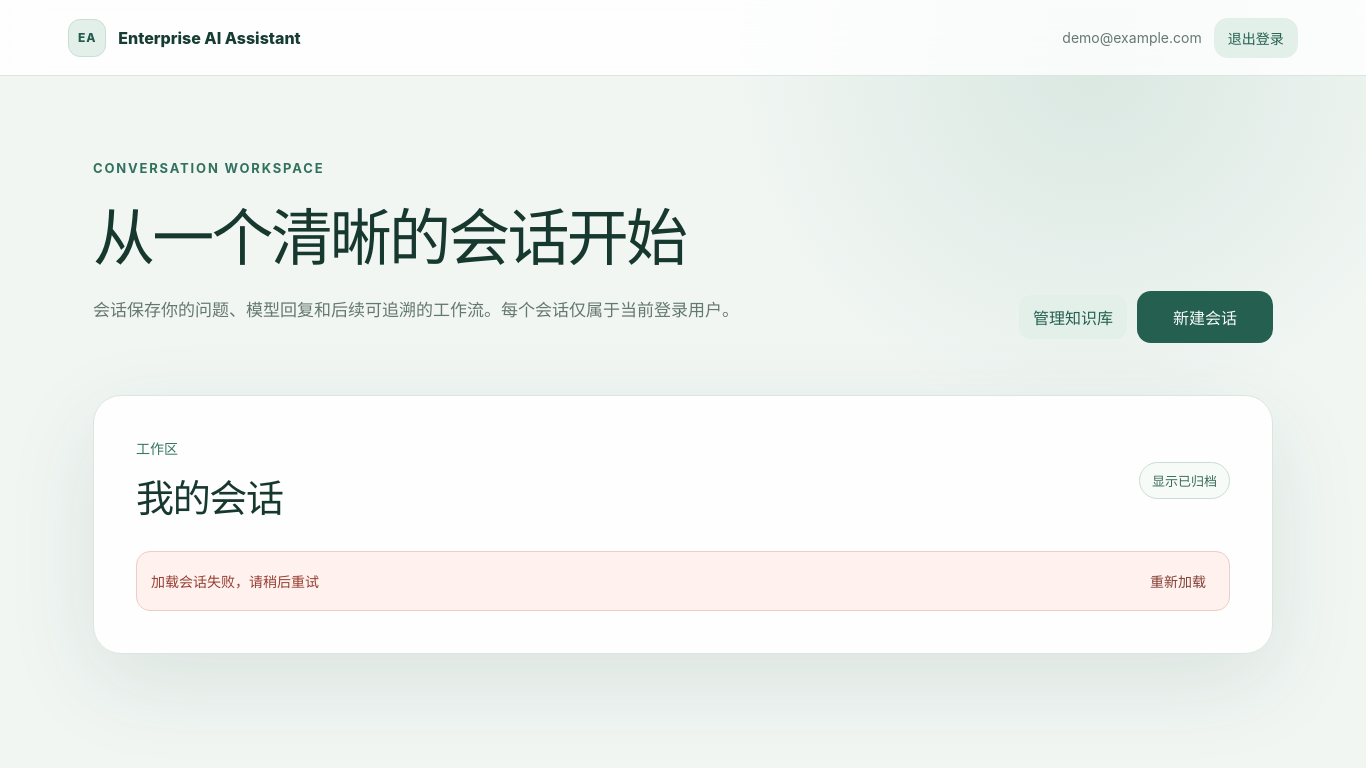
HomeView › 首次加载失败时显示错误，并可点击重试
Expected: the message "加载会话失败，请稍后重试 重新加载" is shown, [136,551,1230,611]
Click the button with test id "retry-load".
click(1178, 581)  # box [1141,564,1215,598]
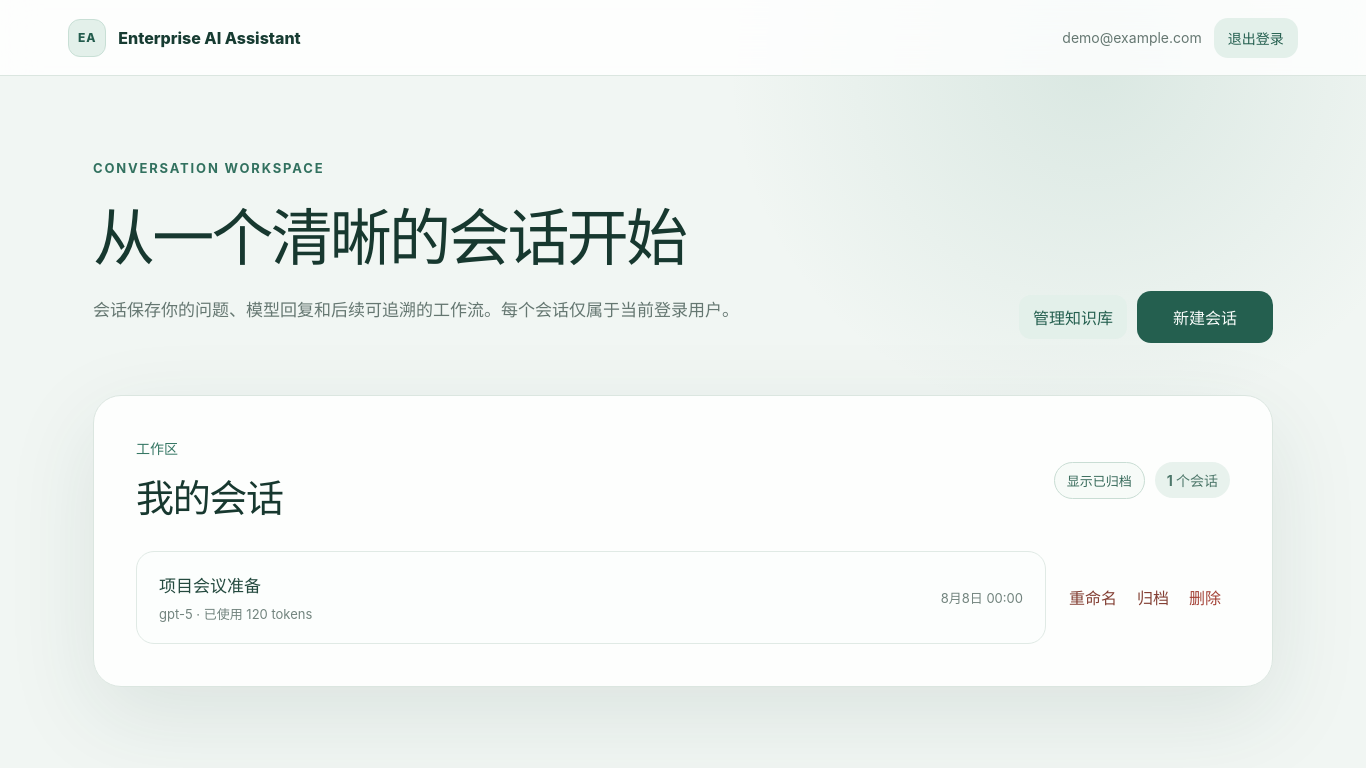
Result: the list with test id "conversation-list" shows "项目会议准备" at [136,551,1046,644]
